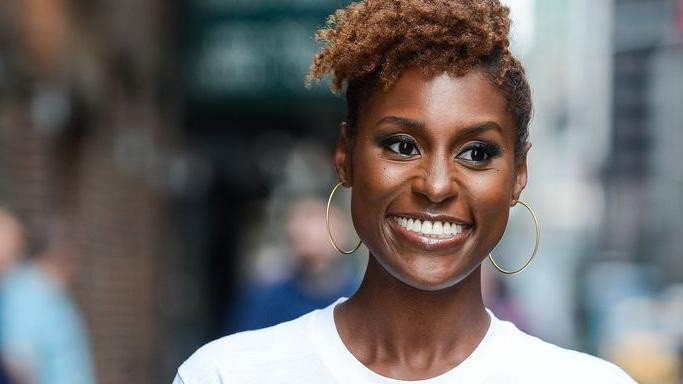person: (326, 3, 534, 308)
